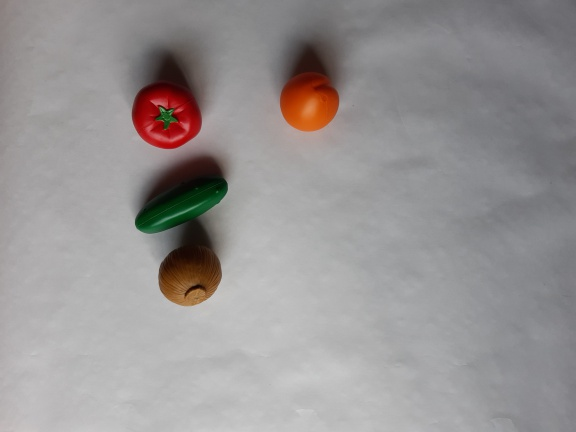apricot: (274, 63, 348, 135)
cucumber: (131, 168, 238, 238)
onion: (153, 239, 227, 313)
tomato: (125, 78, 211, 153)
